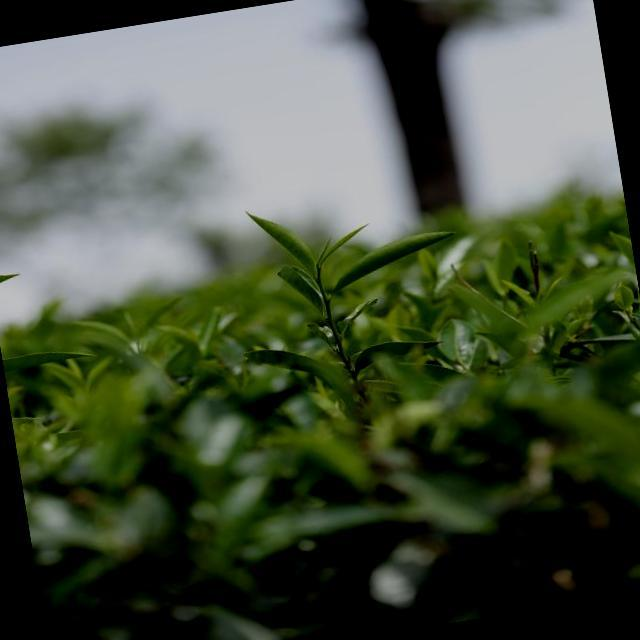Stem: (316, 279, 326, 297)
